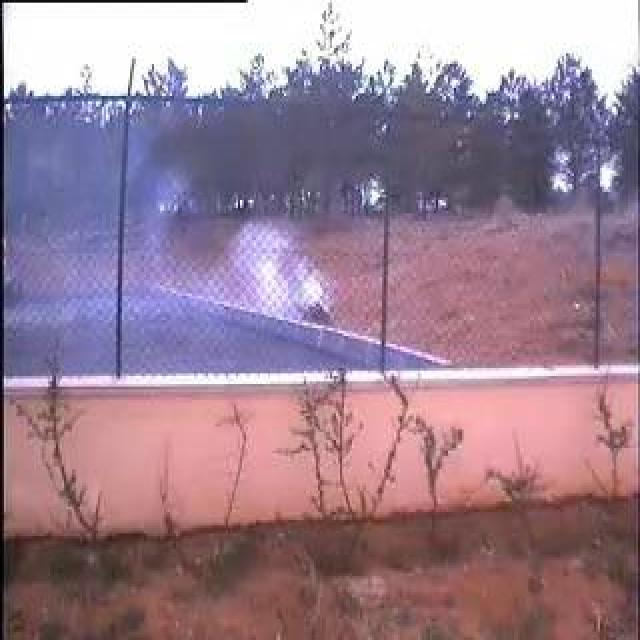Smoke: (120, 134, 340, 374)
